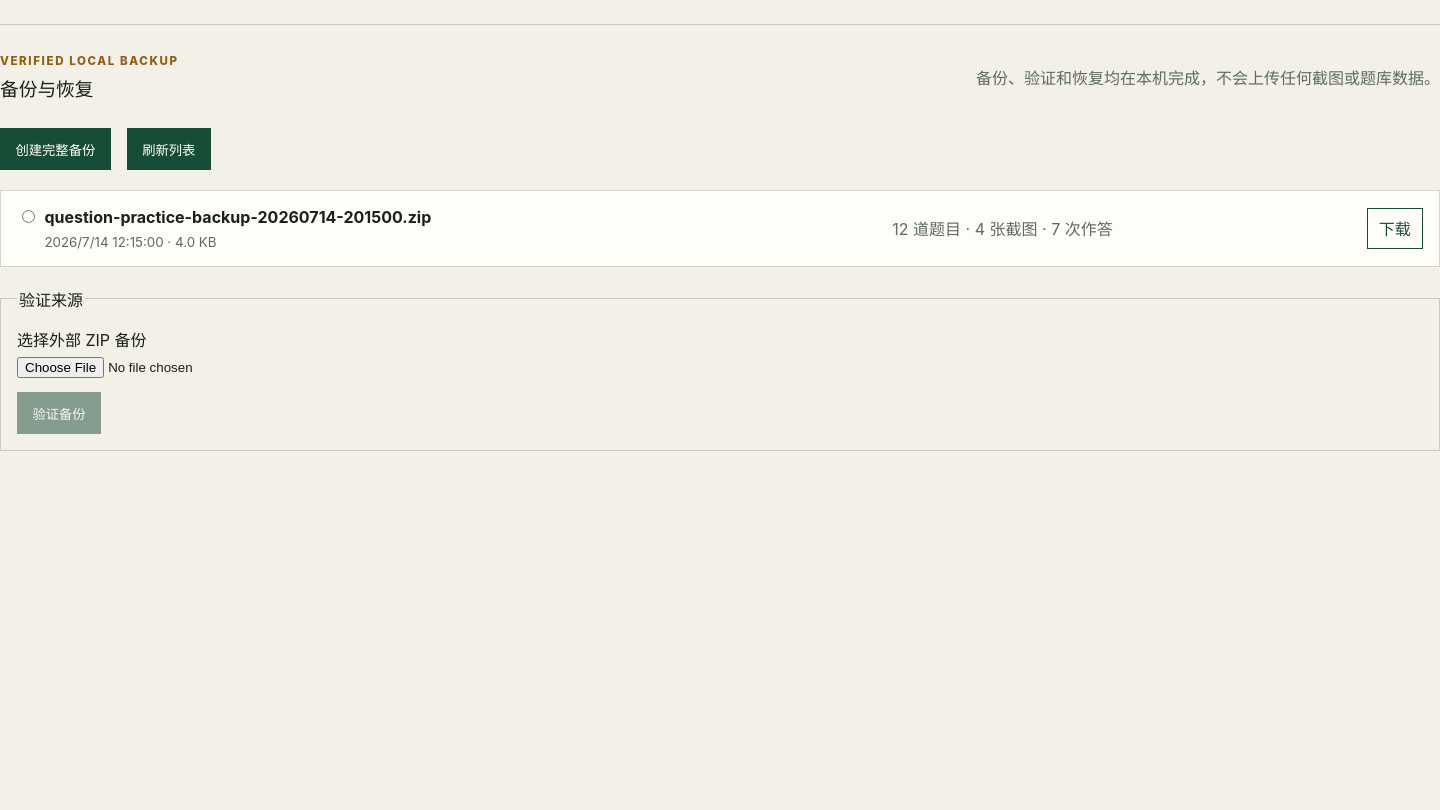
Test: 备份与恢复工作区 › shows migration warnings from a verified older backup
The image size is (1440, 810).
Click the radio button labelled "question-practice-backup-20260714-201500.zip".
click(28, 217)  # box [22, 210, 35, 223]
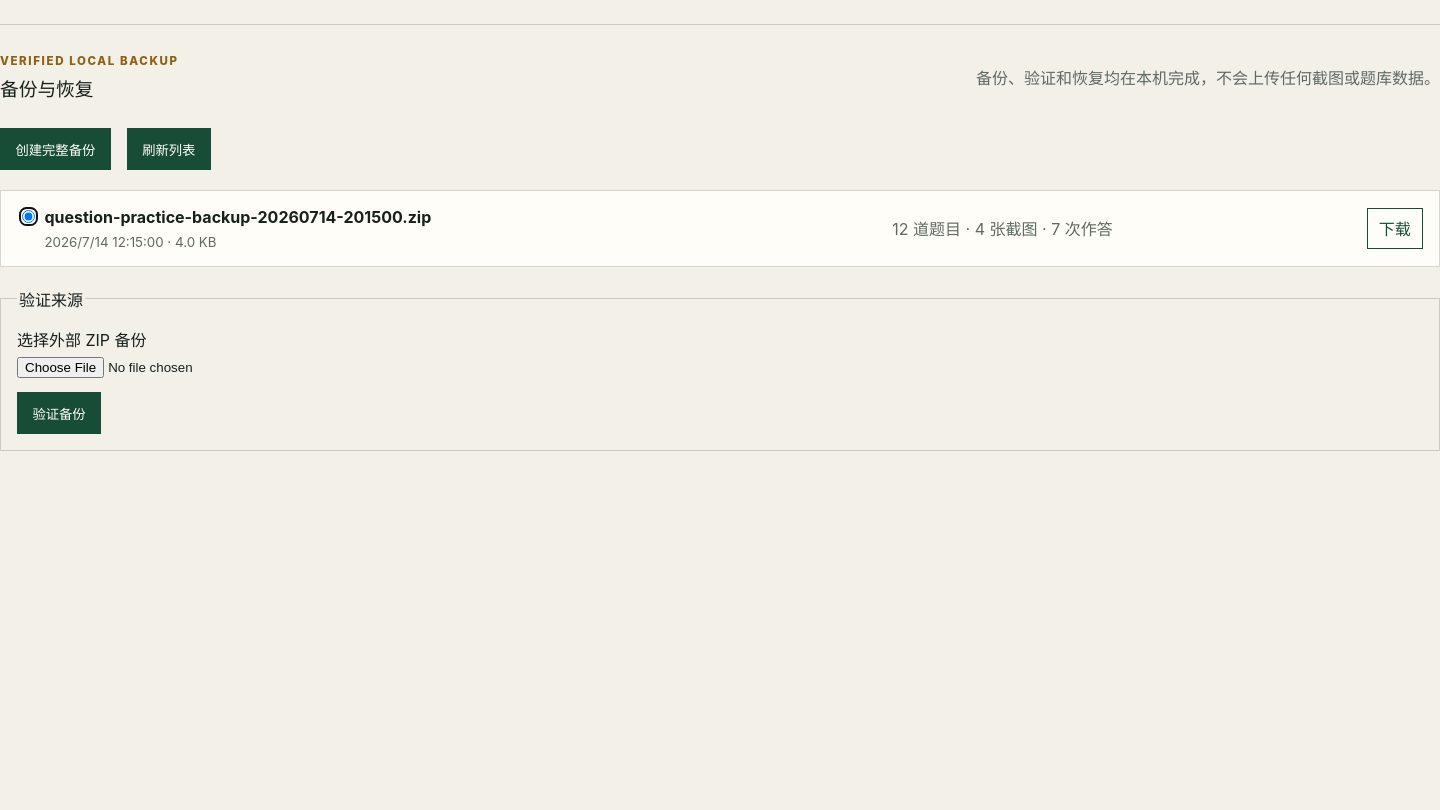
Click the button "验证备份".
click(59, 413)  # box [17, 392, 101, 434]
(page scrolled)
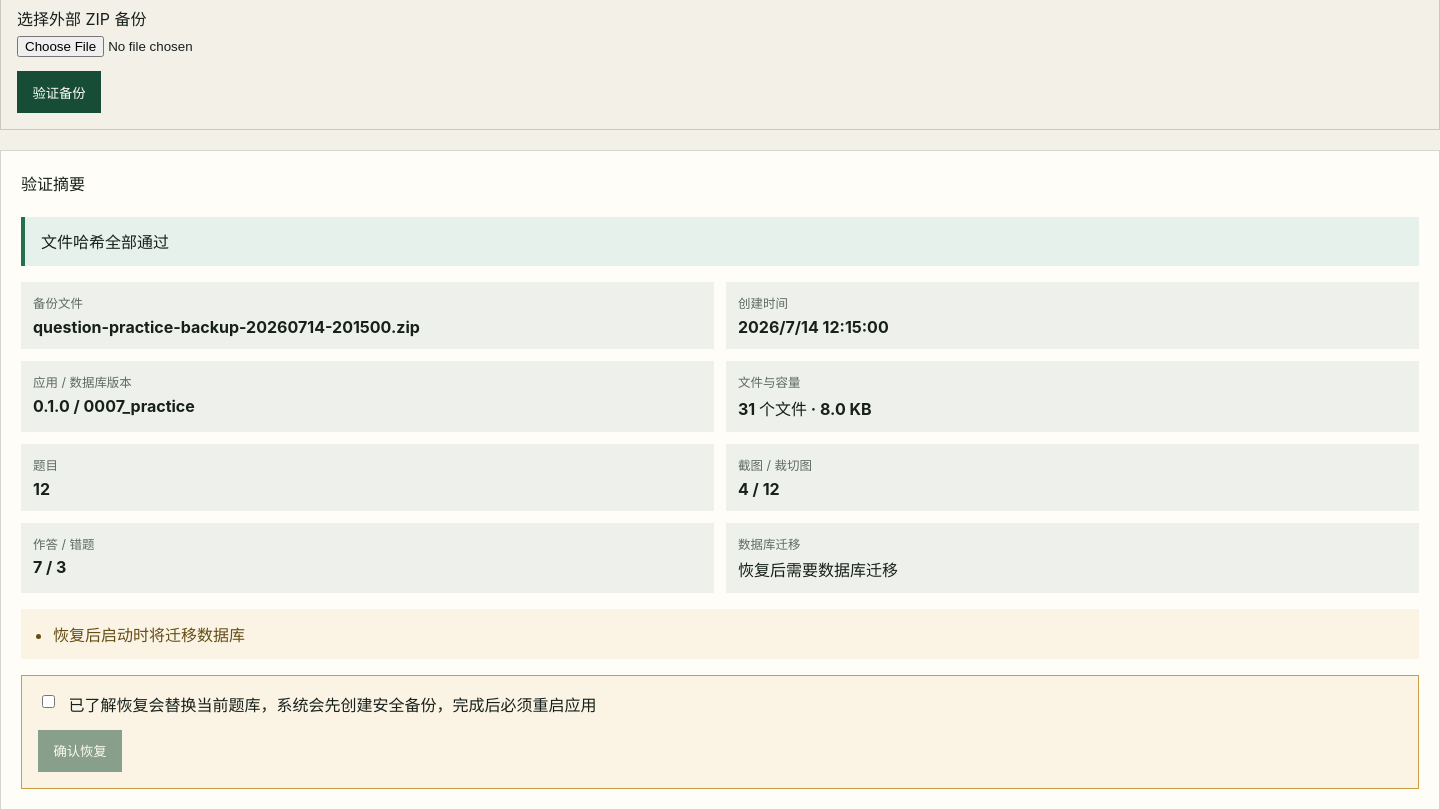
Now the text "恢复后需要数据库迁移" is shown, box [738, 560, 898, 580]
Now the list item "恢复后启动时将迁移数据库" is shown, box [53, 625, 245, 645]
